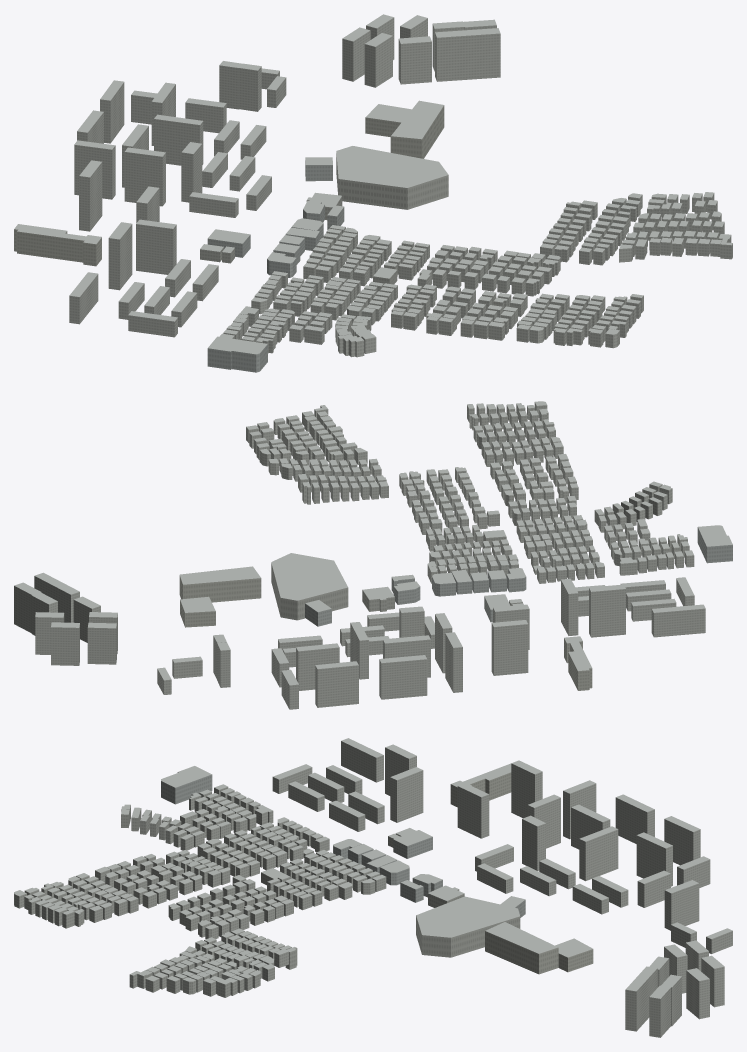
3 renders of one model, top to bottom at view 1: azimuth 30°, elevation 25°; view 2: azimuth 150°, elevation 25°; view 3: azimuth 270°, elevation 25°, orthographic. The views are drawn at different scales.
Parts seen in each view (by area): view 1: ctx-apartments, ctx-roof, ctx-school, ctx-commercial, ctx-other; view 2: ctx-apartments, ctx-roof, ctx-commercial, ctx-school, ctx-other; view 3: ctx-apartments, ctx-roof, ctx-commercial, ctx-school, ctx-other.
Boxes of the visible parts, x1,y1,x2,y2 form: ctx-apartments: (69, 17, 732, 357); ctx-roof: (14, 14, 732, 354); ctx-school: (14, 105, 444, 266); ctx-commercial: (207, 160, 344, 372); ctx-other: (200, 153, 448, 284); ctx-apartments: (14, 402, 705, 709); ctx-roof: (14, 401, 732, 685); ctx-commercial: (305, 527, 732, 626); ctx-school: (179, 575, 592, 690); ctx-other: (271, 532, 536, 620); ctx-apartments: (14, 741, 732, 1037); ctx-roof: (14, 738, 732, 998); ctx-commercial: (161, 772, 525, 917); ctx-school: (450, 772, 593, 974); ctx-other: (261, 833, 520, 957).
Size of the model in its own units: 721 by 75.51 by 825.
5 materials, 4 textured.
